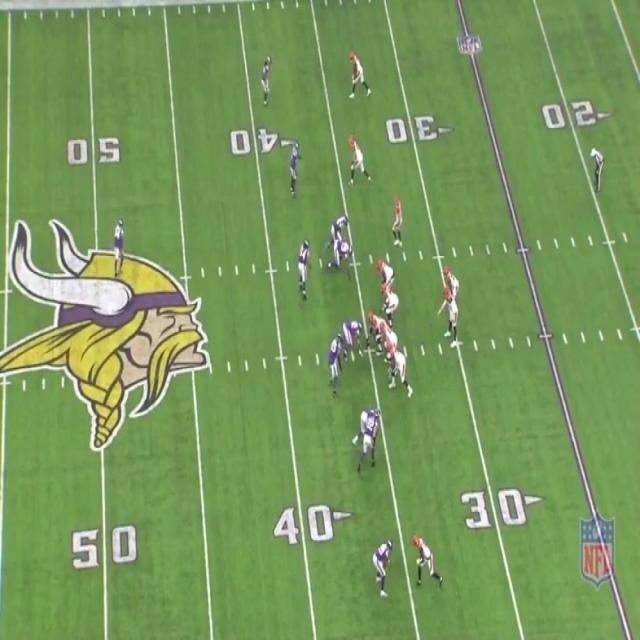center: (364, 312, 384, 352)
db: (359, 407, 382, 472), (372, 536, 391, 590), (114, 217, 123, 275), (263, 56, 273, 104)
lb: (296, 241, 313, 299), (328, 336, 346, 390), (288, 140, 302, 193)
qb: (440, 288, 463, 346)
